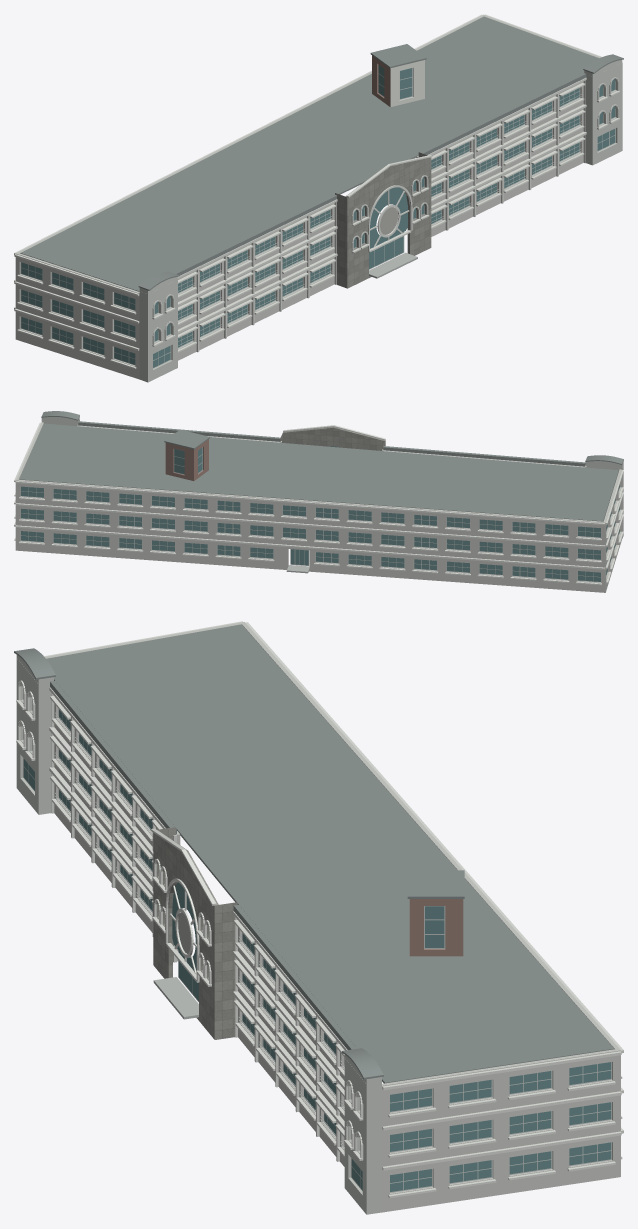
3 renders of one model, top to bottom at view 1: azimuth 30°, elevation 25°; view 2: azimuth 150°, elevation 25°; view 3: azimuth 270°, elevation 25°, orthographic. The views are drawn at different scales.
Parts seen in each view (by area): view 1: main__roof, main__white, main__wall, main__glass, main__end-bay, main__pavilion, main__frame, main__tower-side, main__threshold-entry; view 2: main__roof, main__wall, main__glass, main__white, main__frame, main__pavilion, main__tower-side, main__end-bay; view 3: main__roof, main__white, main__wall, main__glass, main__end-bay, main__pavilion, main__frame, main__tower-side, main__threshold-entry.
Part boxes in pixels (x1=…): main__roof: x1=20, y1=16, x2=623, y2=291; main__white: x1=14, y1=14, x2=619, y2=369; main__wall: x1=15, y1=14, x2=600, y2=379; main__glass: x1=21, y1=65, x2=615, y2=367; main__end-bay: x1=139, y1=60, x2=622, y2=382; main__pavilion: x1=335, y1=152, x2=431, y2=288; main__frame: x1=20, y1=65, x2=615, y2=368; main__tower-side: x1=372, y1=55, x2=390, y2=106; main__threshold-entry: x1=369, y1=252, x2=417, y2=278; main__roof: x1=19, y1=411, x2=623, y2=521; main__wall: x1=15, y1=422, x2=621, y2=592; main__glass: x1=21, y1=446, x2=619, y2=581; main__white: x1=14, y1=422, x2=623, y2=585; main__frame: x1=20, y1=447, x2=619, y2=582; main__pavilion: x1=280, y1=427, x2=385, y2=450; main__tower-side: x1=165, y1=439, x2=208, y2=480; main__end-bay: x1=41, y1=417, x2=623, y2=538; main__roof: x1=14, y1=624, x2=614, y2=1083; main__white: x1=16, y1=621, x2=623, y2=1198; main__wall: x1=45, y1=622, x2=620, y2=1212; main__glass: x1=23, y1=709, x2=611, y2=1191; main__end-bay: x1=16, y1=655, x2=381, y2=1214; main__pavilion: x1=153, y1=827, x2=237, y2=1039; main__frame: x1=23, y1=690, x2=611, y2=1192; main__tower-side: x1=409, y1=899, x2=463, y2=956; main__threshold-entry: x1=153, y1=977, x2=198, y2=1019.
Size of the model in its own units: 82.41 by 15.38 by 45.4.
10 materials, 1 textured.
